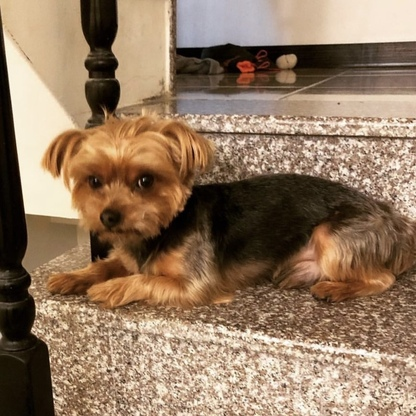yorkshire: (40, 112, 415, 308)
